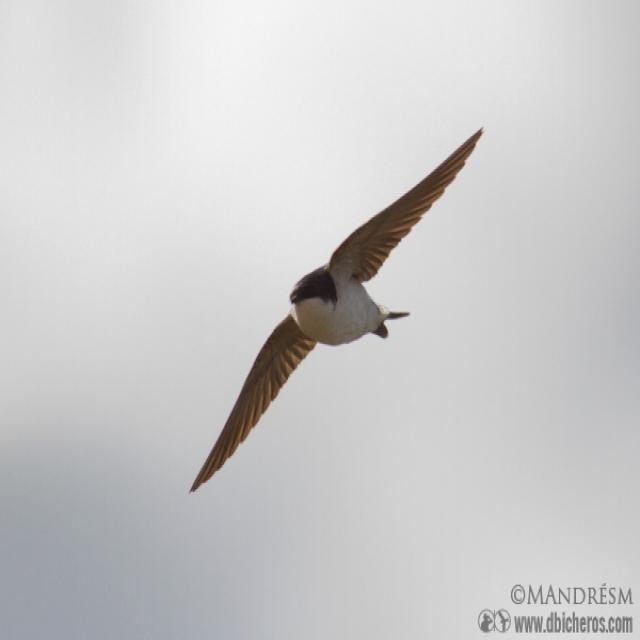bird: (131, 8, 522, 532)
